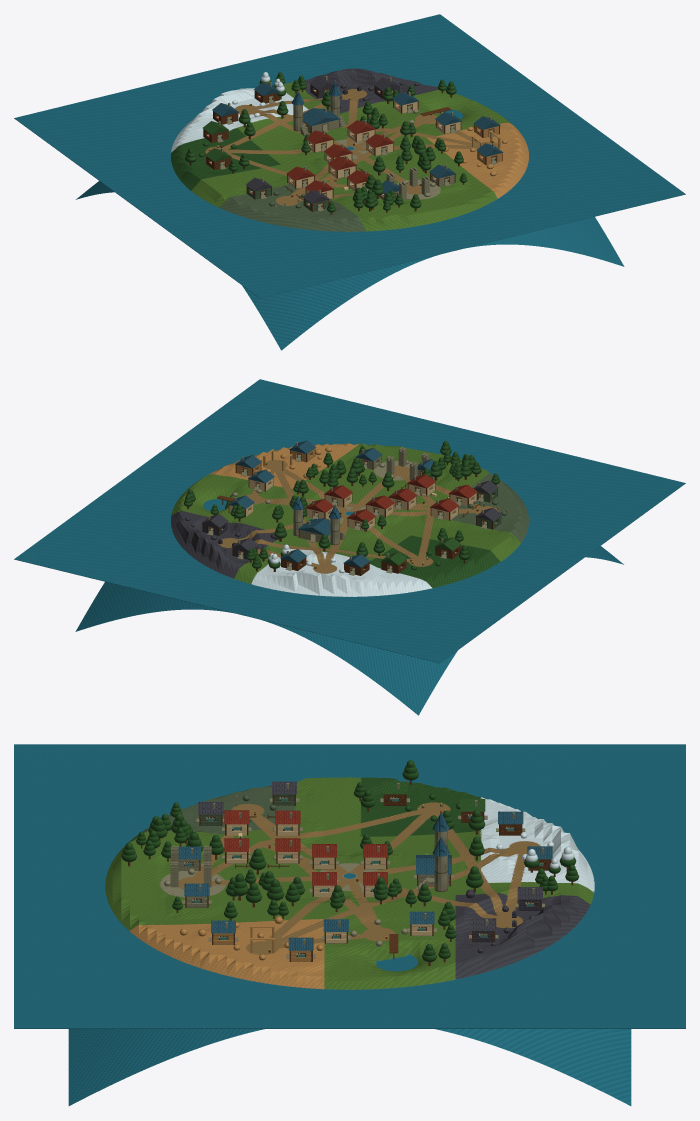
The model's file is hyrule_convergence.glb.
3 views of the same model, one above another, from view 1: azimuth 30°, elevation 25°; view 2: azimuth 150°, elevation 25°; view 3: azimuth 270°, elevation 25° (orthographic). The views are drawn at different scales.
Parts seen in each view (by area): view 1: Sea, Island terrain; view 2: Sea, Island terrain; view 3: Sea, Island terrain.
Part boxes in pixels (x1,y1,x2,y2): Sea: [14, 14, 685, 298]; Island terrain: [76, 68, 624, 350]; Sea: [14, 379, 685, 663]; Island terrain: [75, 443, 623, 715]; Sea: [14, 744, 685, 1028]; Island terrain: [68, 777, 631, 1105].
Bounding box in the file's own units: 184 × 51.39 × 184.
Materials: 18 (18 with a texture image).
